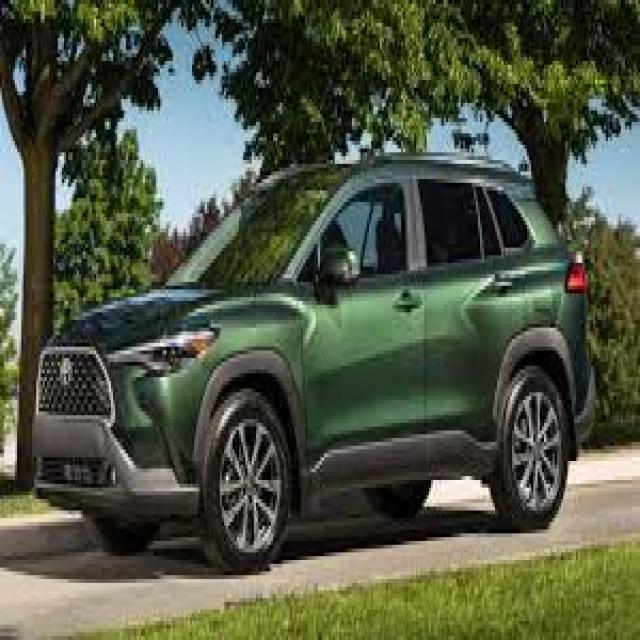light_vehicle: (32, 151, 597, 574)
